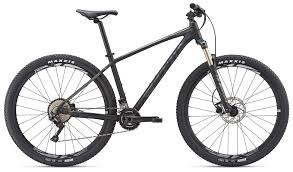bicycle: (1, 4, 290, 168)
